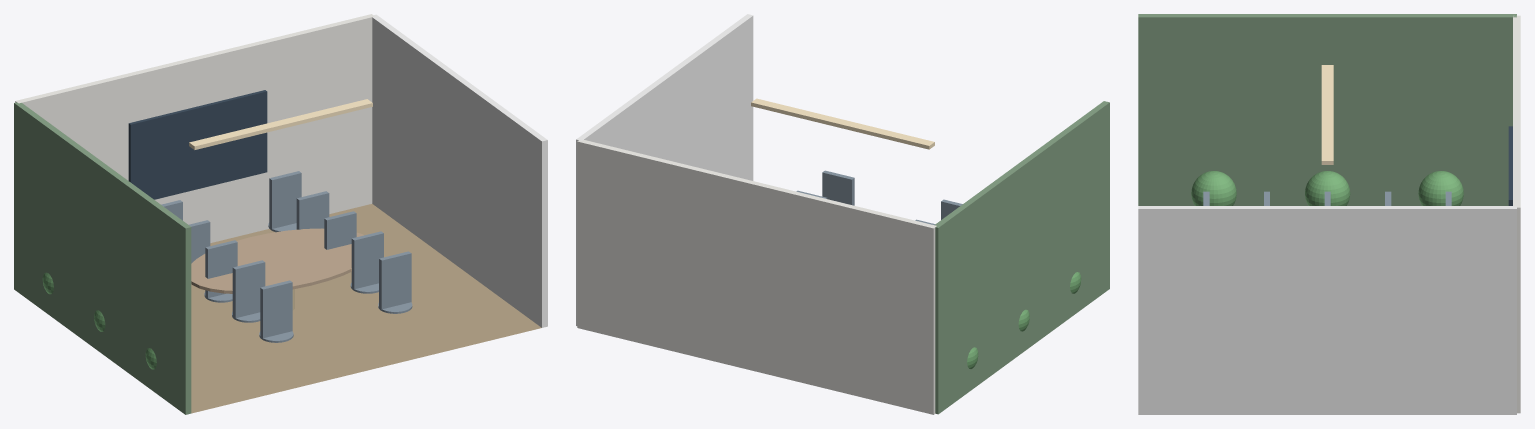
3 renders of one model, left to right at view 1: azimuth 30°, elevation 25°; view 2: azimuth 150°, elevation 25°; view 3: azimuth 270°, elevation 25°, orthographic. The views are drawn at different scales.
Parts seen in each view (by area): view 1: BackWall, WhiteboardWall, GreenWall, Floor, Screen, Table, LightStrip, ChairLBack0, ChairRBack0, ChairLBack1, ChairRBack4, ChairRBack1 (+4 smaller); view 2: BackWall, GreenWall, WhiteboardWall, LightStrip, ChairRBack0; view 3: WhiteboardWall, GreenWall, BackWall, LightStrip, Plant1, Plant2, Plant0, Screen.
Part boxes in pixels (x1,y1,x2,y2): BackWall: (15,14,374,242); WhiteboardWall: (371,14,547,327); GreenWall: (14,102,191,414); Floor: (191,204,541,413); Screen: (128,90,267,199); Table: (191,228,363,293); LightStrip: (189,99,372,149); ChairLBack0: (260,280,292,338); ChairRBack0: (379,251,411,309); ChairLBack1: (232,260,265,318); ChairRBack4: (269,171,301,229); ChairRBack1: (351,231,383,289); BackWall: (577,140,936,414); GreenWall: (934,101,1109,414); WhiteboardWall: (576,14,753,325); LightStrip: (751,98,934,149); ChairRBack0: (822,170,854,205); WhiteboardWall: (1138,206,1516,414); GreenWall: (1138,14,1516,205); BackWall: (1513,15,1520,413); LightStrip: (1321,65,1333,164); Plant1: (1305,171,1350,205); Plant2: (1418,171,1463,205); Plant0: (1191,171,1236,205); Screen: (1508,126,1512,205).
Size of the model in its own units: 6.15 by 3 by 5.05.
